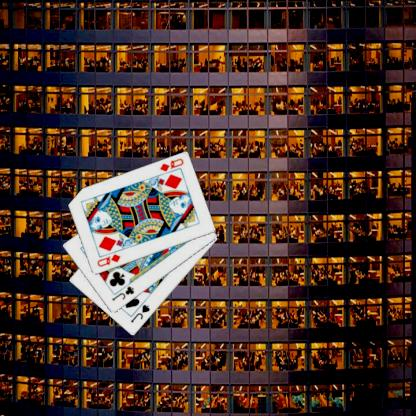JC: (109, 284, 136, 302)
JS: (128, 302, 152, 324)
QD: (94, 251, 122, 268), (157, 156, 185, 173)
